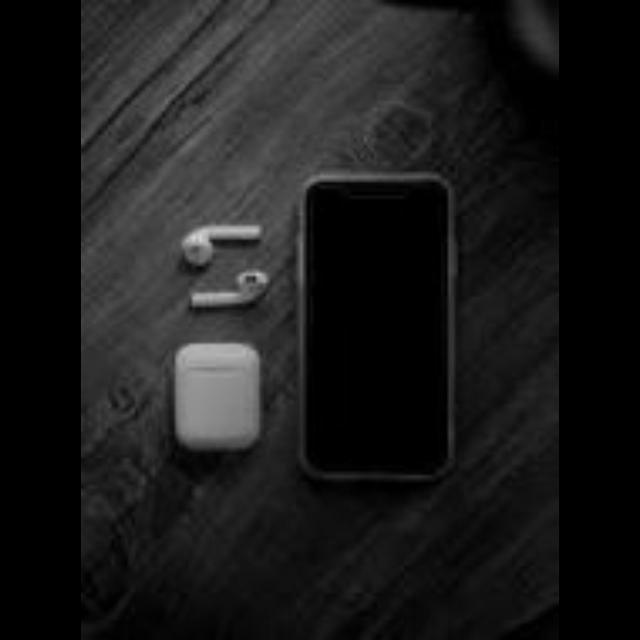fake: (289, 160, 468, 504)
